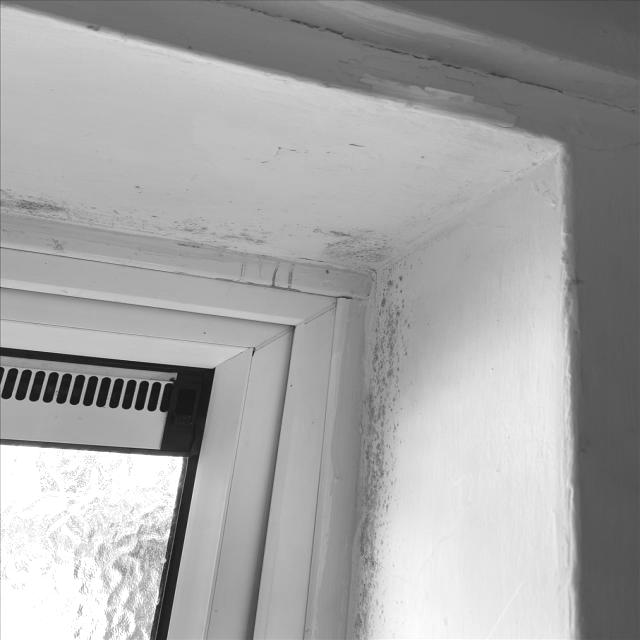peeling paint: (340, 54, 526, 143)
stain marks: (299, 225, 422, 640), (0, 160, 293, 269)
